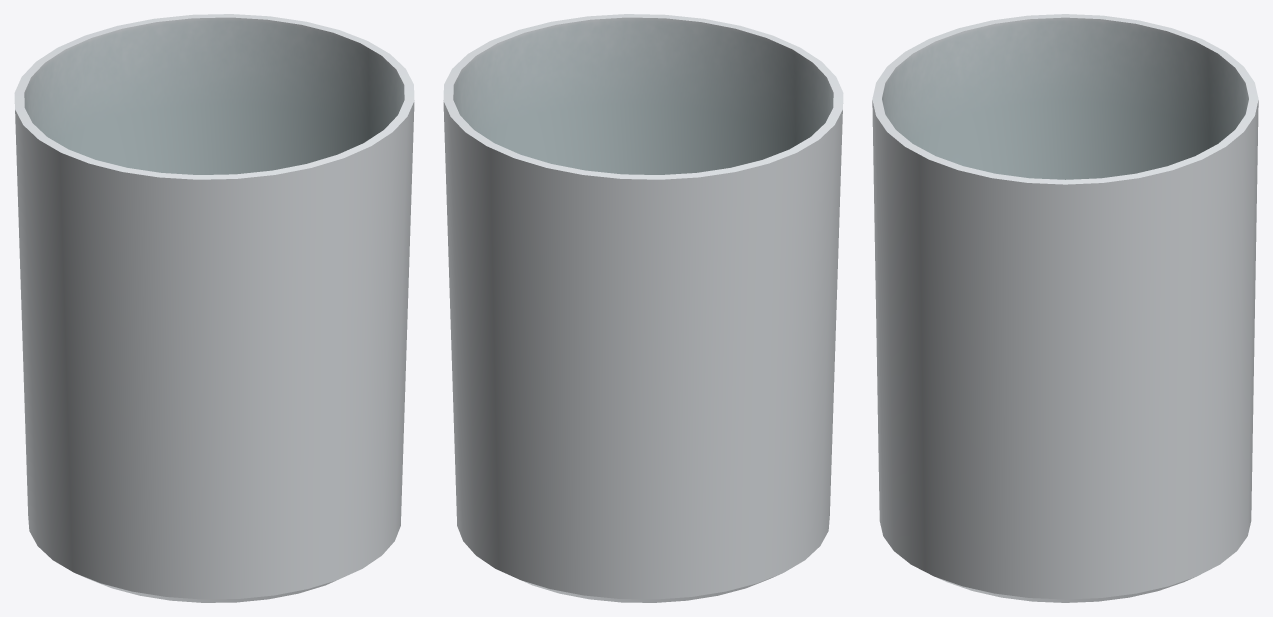
The picture shows the model from 3 angles, left to right: view 1: azimuth 30°, elevation 25°; view 2: azimuth 150°, elevation 25°; view 3: azimuth 270°, elevation 25°; orthographic projection.
Visible parts, largest first — view 1: WhGlass_low; view 2: WhGlass_low; view 3: WhGlass_low.
Part boxes in pixels (x1,y1,x2,y2): WhGlass_low: [14, 14, 414, 602]; WhGlass_low: [443, 14, 843, 602]; WhGlass_low: [872, 14, 1258, 602].
Bounding box in the file's own units: 0.1242 × 0.1471 × 0.1188.
Materials: 2 (2 with a texture image).
